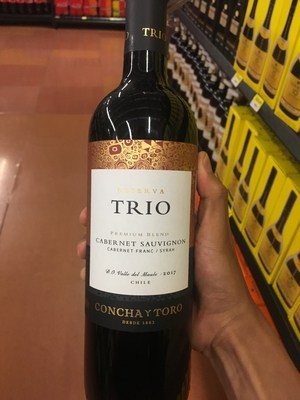trio cabernet sauvignon: (82, 27, 202, 400)
